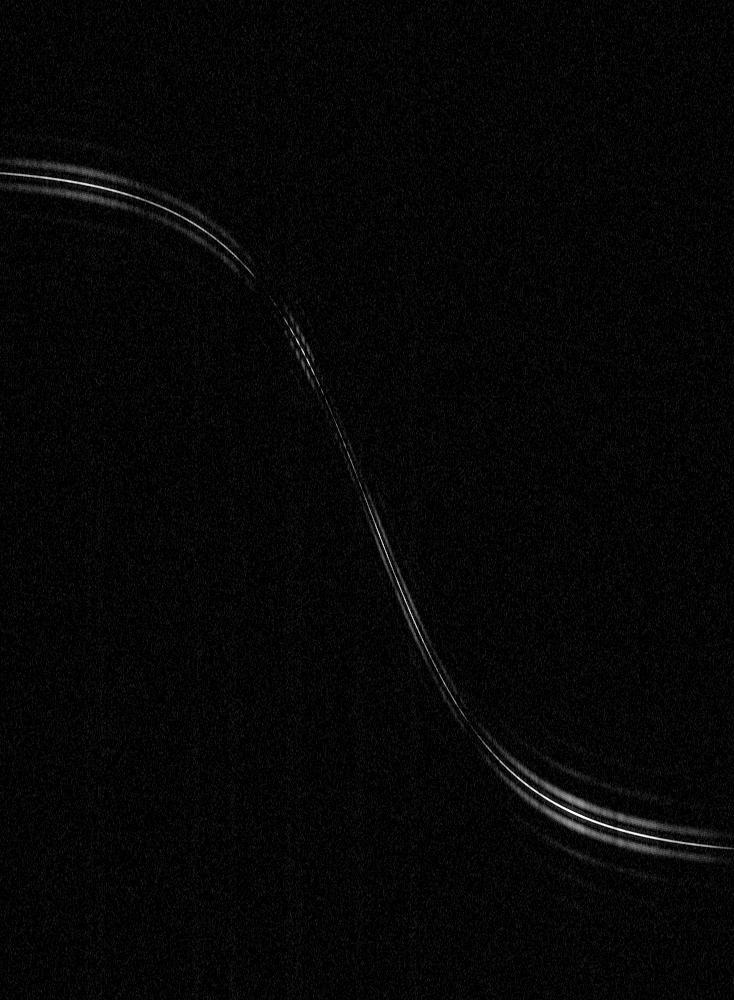signal: (0, 0, 733, 999)
